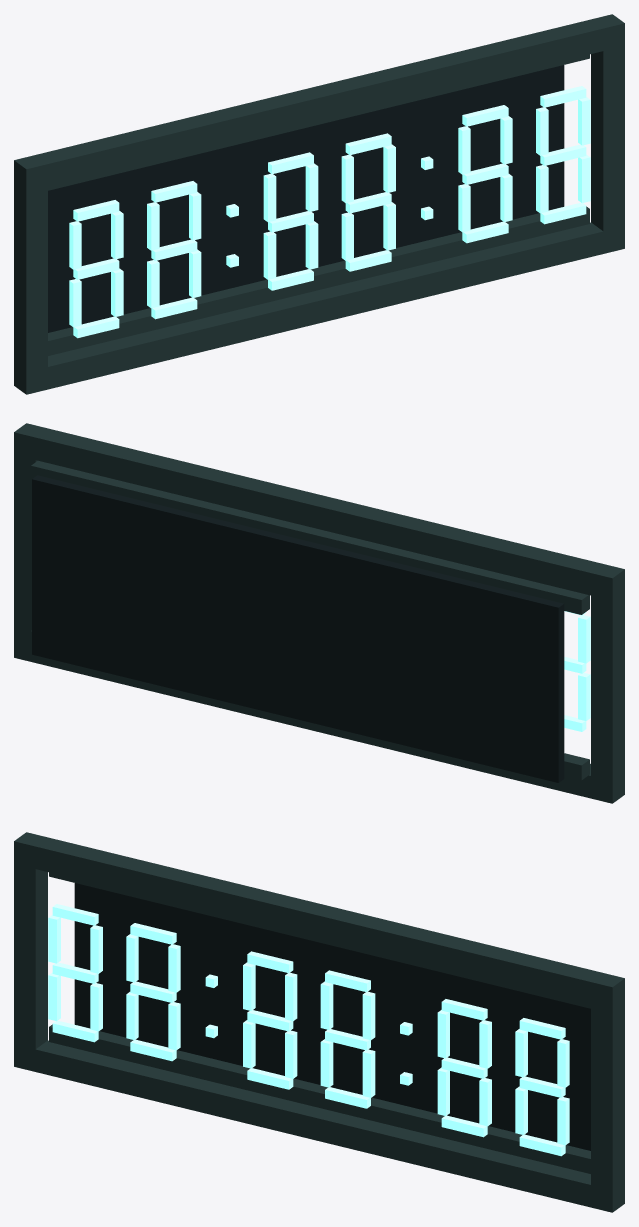
The picture shows the model from 3 angles, top to bottom: view 1: azimuth 30°, elevation 25°; view 2: azimuth 150°, elevation 25°; view 3: azimuth 330°, elevation 25°; orthographic projection.
Visible parts, largest first — view 1: digital-display-back, digital-frame-top, digital-frame-bottom, digital-layer-bottom, digital-frame-left, digital-frame-right, digital-layer-top, clock-digit-3-f, clock-digit-3-e, clock-digit-3-b, clock-digit-3-c, clock-digit-2-a (+37 smaller); view 2: digital-display-back, digital-frame-top, digital-layer-top, digital-frame-left, digital-frame-bottom, digital-frame-right, clock-digit-1-f, clock-digit-1-e, digital-layer-bottom; view 3: digital-display-back, digital-frame-top, digital-frame-bottom, digital-layer-bottom, digital-frame-right, digital-frame-left, digital-layer-top, clock-digit-4-b, clock-digit-4-c, clock-digit-4-f, clock-digit-4-e, clock-digit-5-a (+37 smaller).
Part boxes in pixels (x1,y1,x2,y2): digital-display-back: [48, 65, 564, 332]; digital-frame-top: [14, 14, 624, 191]; digital-frame-bottom: [14, 222, 624, 394]; digital-layer-bottom: [48, 206, 589, 355]; digital-frame-left: [14, 183, 47, 372]; digital-frame-right: [591, 46, 624, 231]; digital-layer-top: [48, 54, 589, 190]; clock-digit-3-f: [263, 173, 276, 222]; clock-digit-3-e: [263, 231, 276, 279]; clock-digit-3-b: [305, 163, 318, 211]; clock-digit-3-c: [305, 221, 318, 269]; clock-digit-2-a: [151, 181, 197, 202]; digital-display-back: [32, 475, 564, 782]; digital-frame-top: [14, 423, 624, 600]; digital-layer-top: [31, 460, 589, 614]; digital-frame-left: [591, 592, 624, 781]; digital-frame-bottom: [14, 635, 624, 803]; digital-frame-right: [14, 455, 37, 639]; clock-digit-1-f: [578, 615, 590, 663]; clock-digit-1-e: [578, 673, 590, 720]; digital-layer-bottom: [31, 630, 589, 780]; digital-display-back: [74, 883, 590, 1150]; digital-frame-top: [14, 832, 624, 1009]; digital-frame-bottom: [14, 1040, 624, 1212]; digital-layer-bottom: [49, 1024, 590, 1173]; digital-frame-right: [591, 1001, 624, 1190]; digital-frame-left: [14, 864, 47, 1049]; digital-layer-top: [49, 872, 590, 1008]; clock-digit-4-b: [362, 991, 375, 1040]; clock-digit-4-c: [362, 1049, 375, 1097]; clock-digit-4-f: [320, 981, 333, 1029]; clock-digit-4-e: [320, 1039, 333, 1087]; clock-digit-5-a: [441, 999, 487, 1020].
Size of the model in its own units: 0.5 by 0.18 by 0.053.
